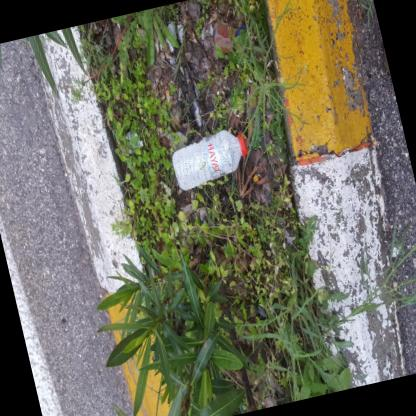Plastic: (172, 128, 248, 189), (193, 81, 204, 125), (238, 132, 248, 155), (236, 24, 247, 36)
Waste: (122, 130, 140, 153), (166, 23, 183, 43), (166, 37, 174, 51), (165, 89, 170, 102)
